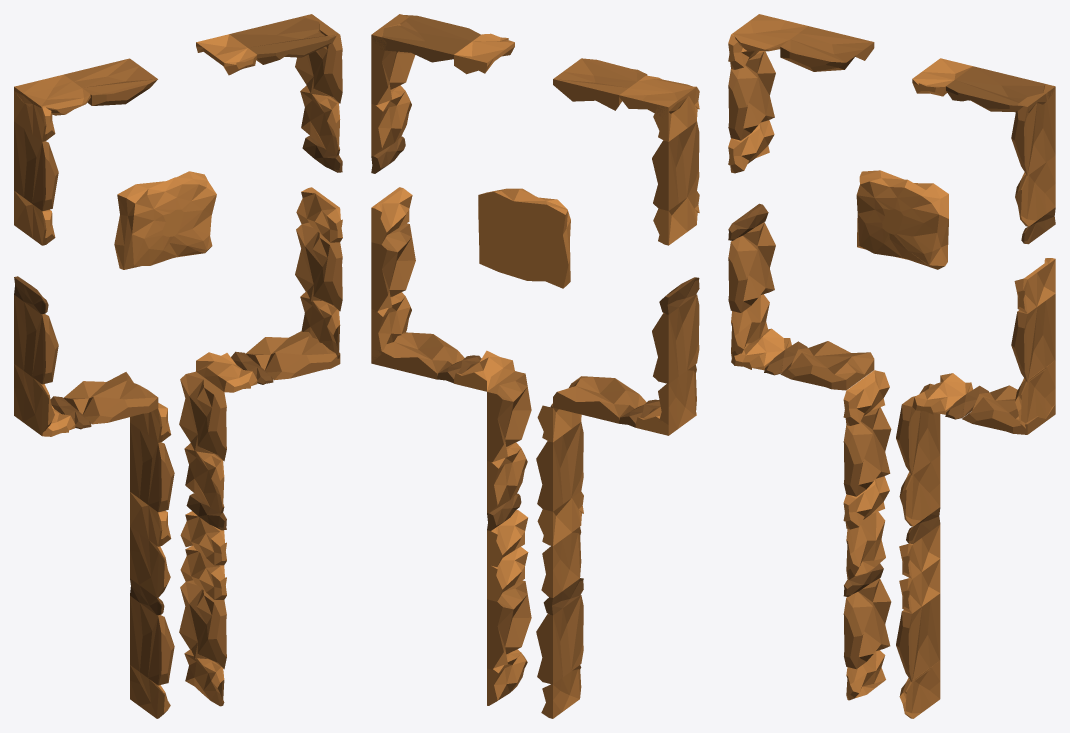
Rendered from common room.fbx.
The picture shows the model from 3 angles, left to right: view 1: azimuth 30°, elevation 25°; view 2: azimuth 150°, elevation 25°; view 3: azimuth 330°, elevation 25°; orthographic projection.
Parts seen in each view (by area): view 1: walls of common, AA; view 2: walls of common, AA; view 3: walls of common, AA.
Boxes of the visible parts, <box> form: walls of common: <box>14,14,342,718</box>; AA: <box>114,171,216,269</box>; walls of common: <box>371,14,699,718</box>; AA: <box>478,188,570,288</box>; walls of common: <box>728,14,1055,718</box>; AA: <box>856,170,948,269</box>.
Size of the model in its own units: 3600 by 7433 by 653.
